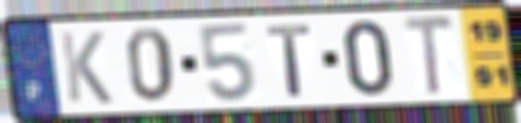0: (340, 18, 396, 99), (123, 25, 176, 106)
5: (195, 20, 259, 105)
K: (56, 29, 116, 107)
T: (400, 12, 457, 100), (263, 22, 316, 99)
